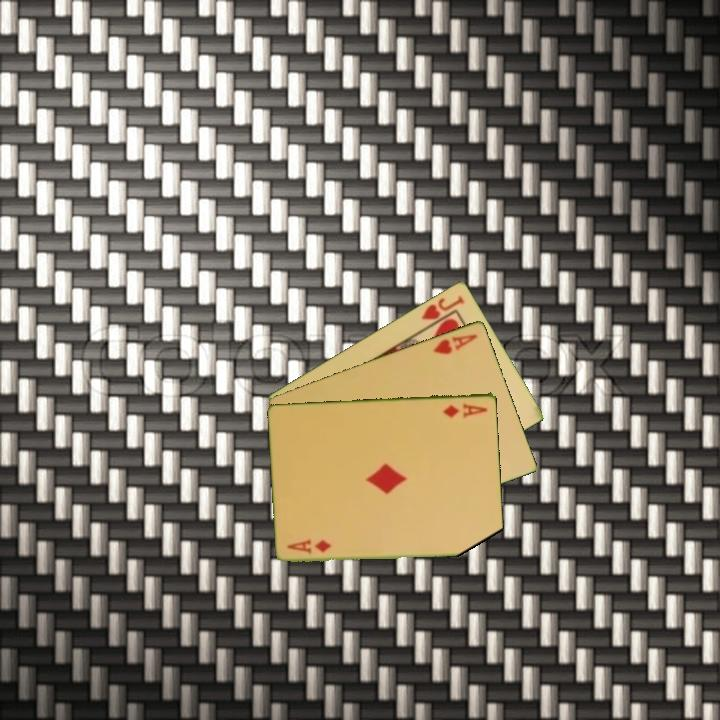Ad: (440, 399, 491, 420), (284, 536, 334, 556)
Ah: (430, 330, 481, 357)
Jh: (418, 291, 467, 322)
